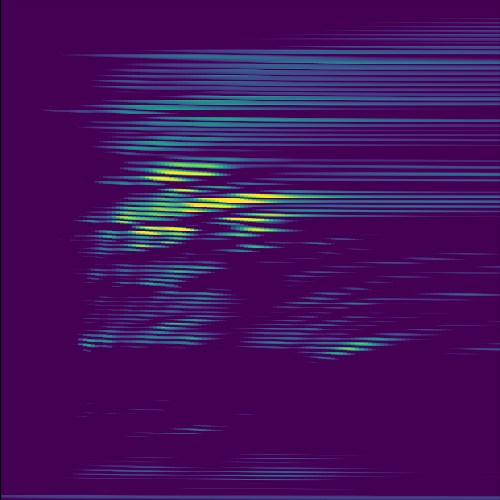semblance: (168, 189, 299, 216), (132, 163, 238, 185), (221, 211, 295, 238)
